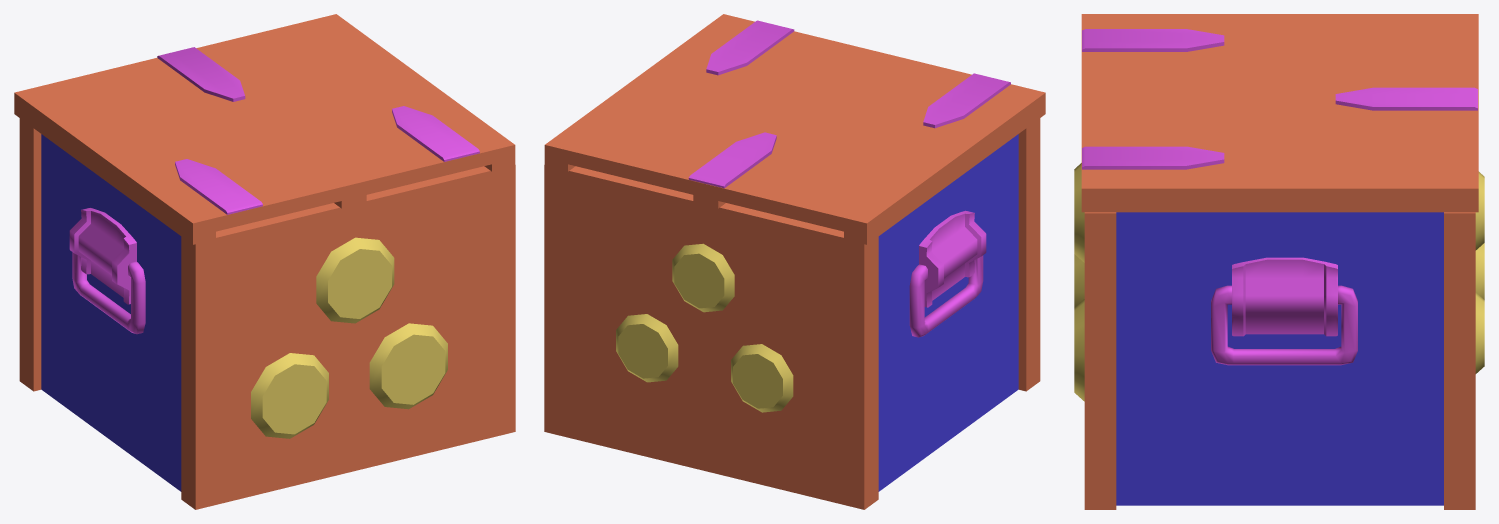
The model's file is Caja 3v2 con parent.fbx.
3 views of the same model, side by side, from view 1: azimuth 30°, elevation 25°; view 2: azimuth 150°, elevation 25°; view 3: azimuth 270°, elevation 25° (orthographic). The views are drawn at different scales.
Visible parts, largest first — view 1: Cube.043, Cube.044, Cylinder.068, Cylinder.070, Cylinder.069, Cube.047, Cube.049, Cube.050, Plane.001, Cube.048; view 2: Cube.043, Cube.044, Cube.047, Cylinder.055, Cylinder.049, Cylinder.054, Plane.001, Cube.048, Cube.050, Cube.049; view 3: Cube.043, Cube.044, Cube.046, Plane, Cube.049, Cube.048, Cube.050, Cylinder.070, Cylinder.068, Cylinder.054, Cylinder.049, Cylinder.069 (+1 smaller).
Boxes of the visible parts, <box> form: Cube.043: <box>19,118,515,509</box>; Cube.044: <box>14,14,515,244</box>; Cylinder.068: <box>316,237,394,323</box>; Cylinder.070: <box>369,323,447,409</box>; Cylinder.069: <box>251,353,328,438</box>; Cube.047: <box>69,208,136,304</box>; Cube.049: <box>392,106,479,161</box>; Cube.050: <box>175,159,262,214</box>; Plane.001: <box>72,252,145,334</box>; Cube.048: <box>157,47,245,101</box>; Cube.043: <box>544,118,1040,509</box>; Cube.044: <box>544,14,1045,244</box>; Cube.047: <box>919,210,986,307</box>; Cylinder.055: <box>731,344,793,412</box>; Cylinder.049: <box>672,243,734,312</box>; Cylinder.054: <box>616,314,678,382</box>; Plane.001: <box>909,255,983,337</box>; Cube.048: <box>688,132,776,188</box>; Cube.050: <box>923,73,1010,128</box>; Cube.049: <box>706,20,794,75</box>; Cube.043: <box>1084,212,1475,509</box>; Cube.044: <box>1081,14,1478,212</box>; Cube.046: <box>1232,257,1337,336</box>; Plane: <box>1211,285,1357,365</box>; Cube.049: <box>1082,146,1224,169</box>; Cube.048: <box>1335,87,1477,110</box>; Cube.050: <box>1082,29,1224,51</box>; Cylinder.070: <box>1074,299,1084,401</box>; Cylinder.068: <box>1074,163,1084,262</box>; Cylinder.054: <box>1475,292,1484,373</box>; Cylinder.049: <box>1475,171,1484,250</box>; Cylinder.069: <box>1074,254,1084,307</box>.
Size of the model in its own units: 151 by 122 by 140.
